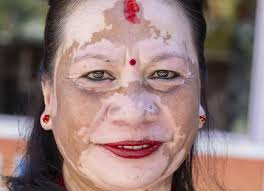vitiligo: (54, 3, 220, 183)
